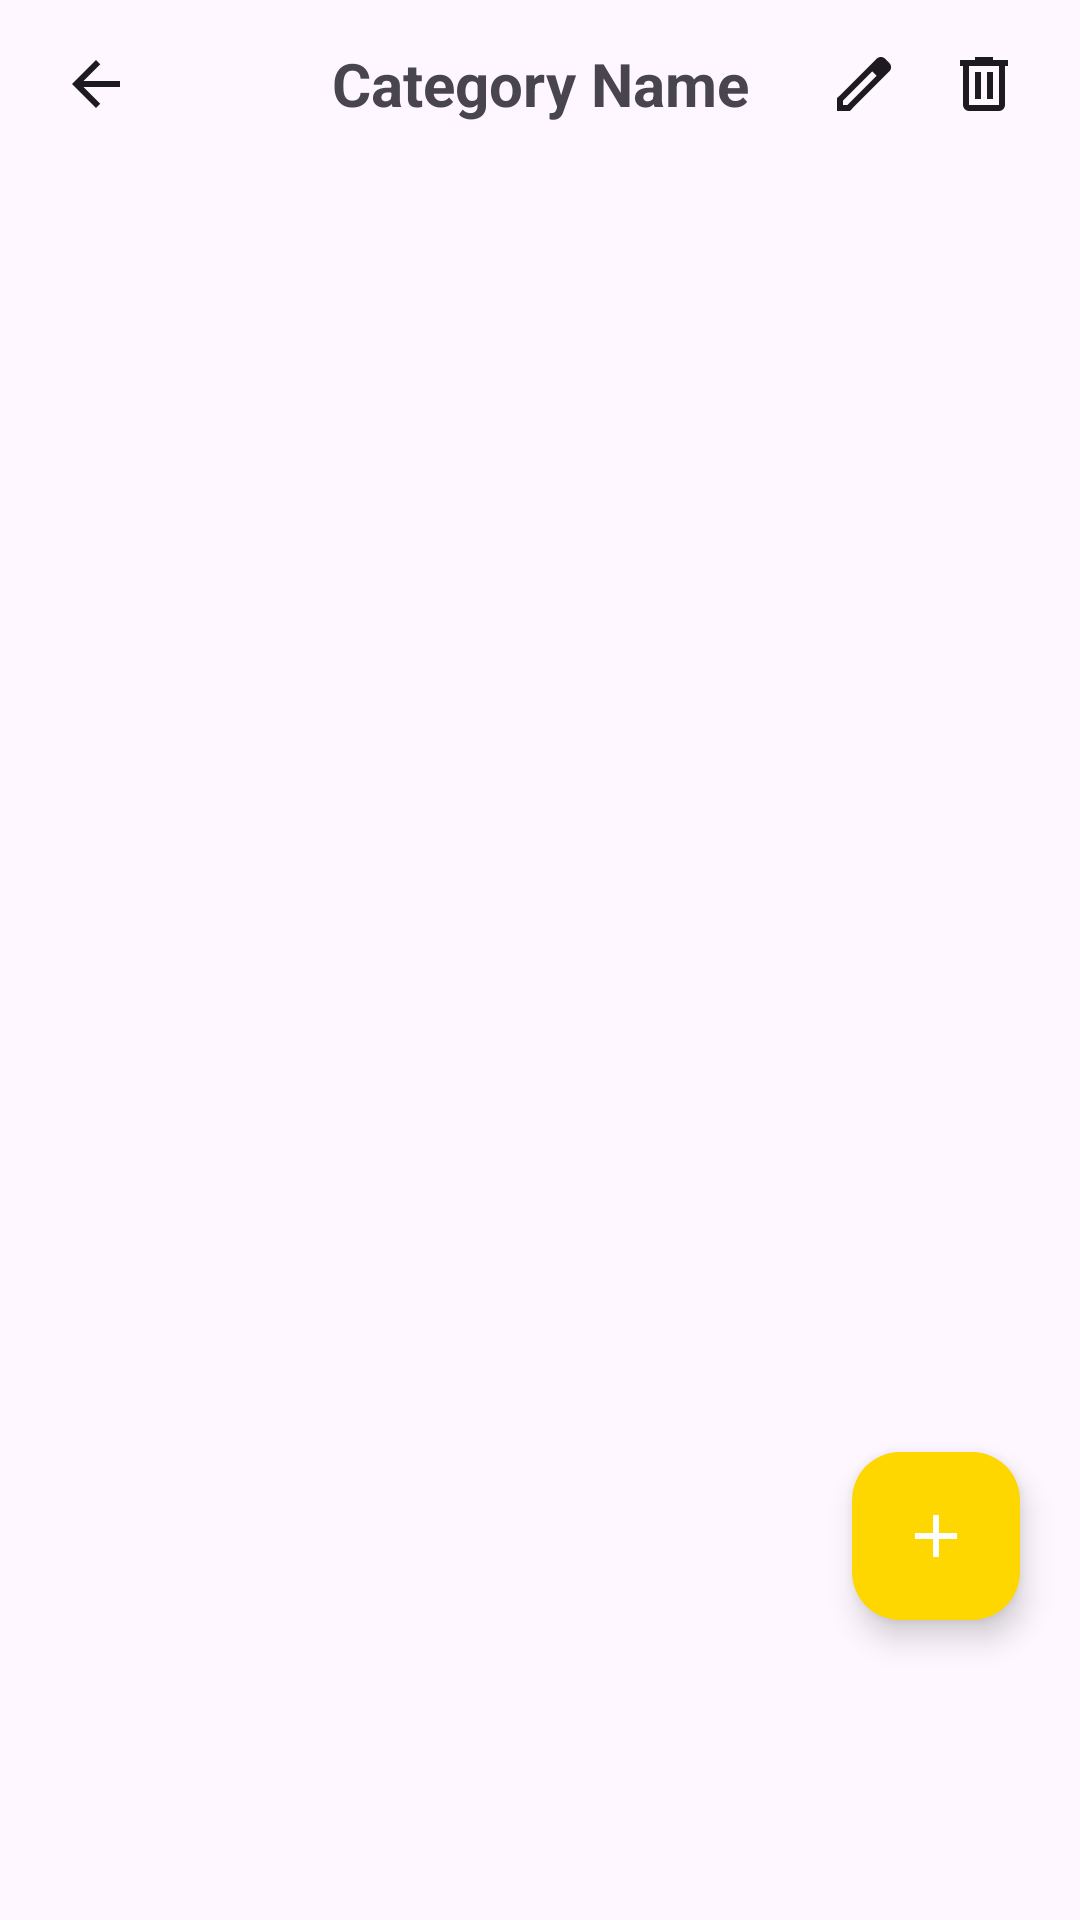

Where to tap for icons on this 1080w x 1920h app screen, as (x,y):
Add reminder: (936,1536)
Back: (96,84)
Delete: (984,84)
Edit: (864,84)
